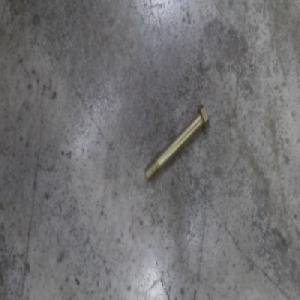Bolt: (143, 102, 209, 184)
